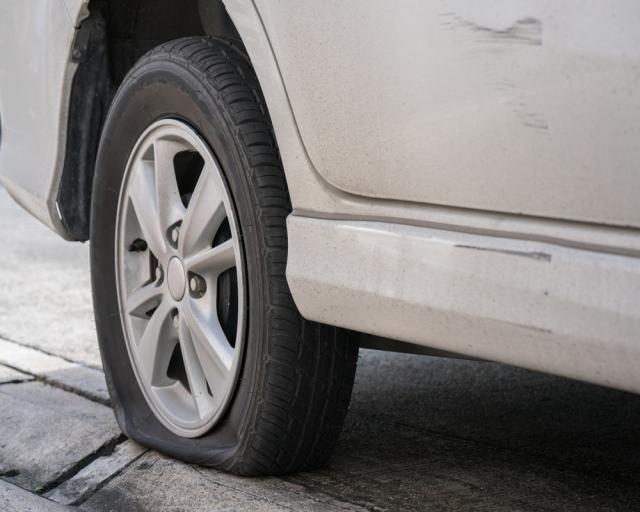scratch: (443, 9, 558, 138)
tire flat: (89, 33, 359, 477)
